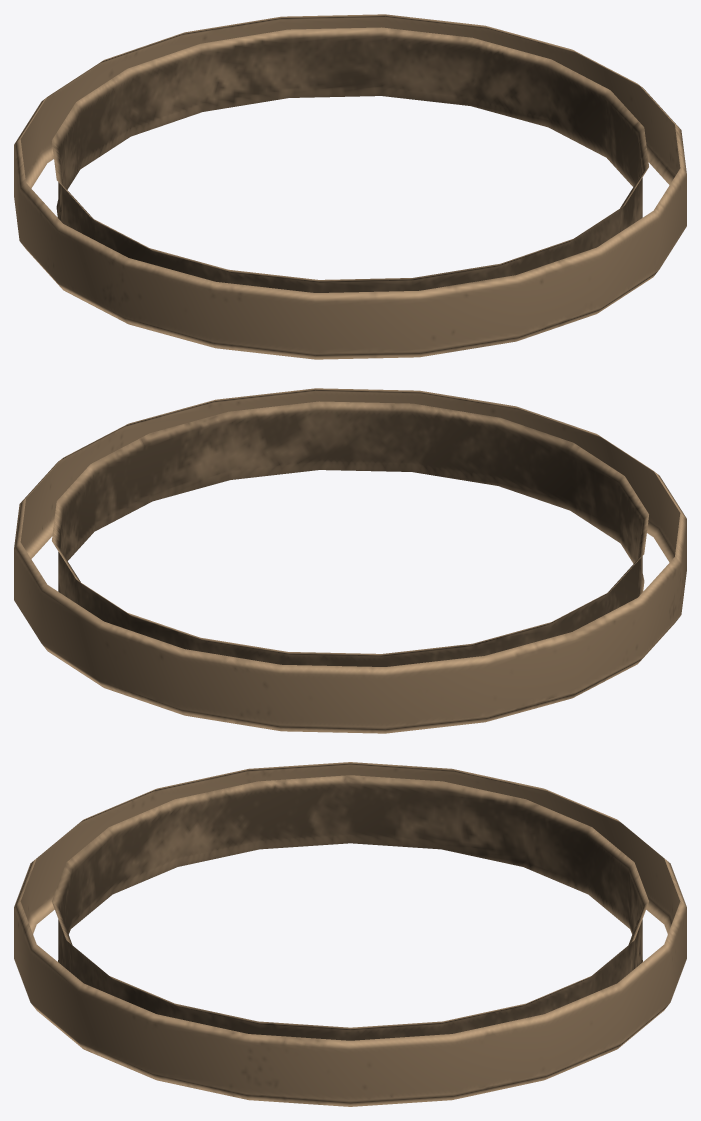
The model's file is Ballista_ExtraBase.fbx.
The picture shows the model from 3 angles, top to bottom: view 1: azimuth 30°, elevation 25°; view 2: azimuth 150°, elevation 25°; view 3: azimuth 270°, elevation 25°; orthographic projection.
Visible parts, largest first — view 1: Ballista_ExtraBase; view 2: Ballista_ExtraBase; view 3: Ballista_ExtraBase.
Part boxes in pixels (x1,y1,x2,y2): Ballista_ExtraBase: [14, 14, 686, 359]; Ballista_ExtraBase: [14, 388, 686, 733]; Ballista_ExtraBase: [14, 762, 686, 1106].
Bounding box in the file's own units: 103 × 11.17 × 103.
